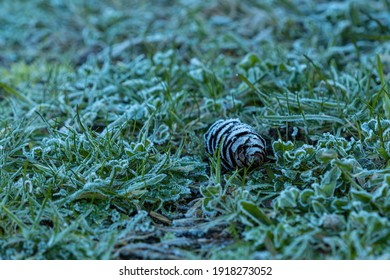Pc: (202, 116, 268, 171)
